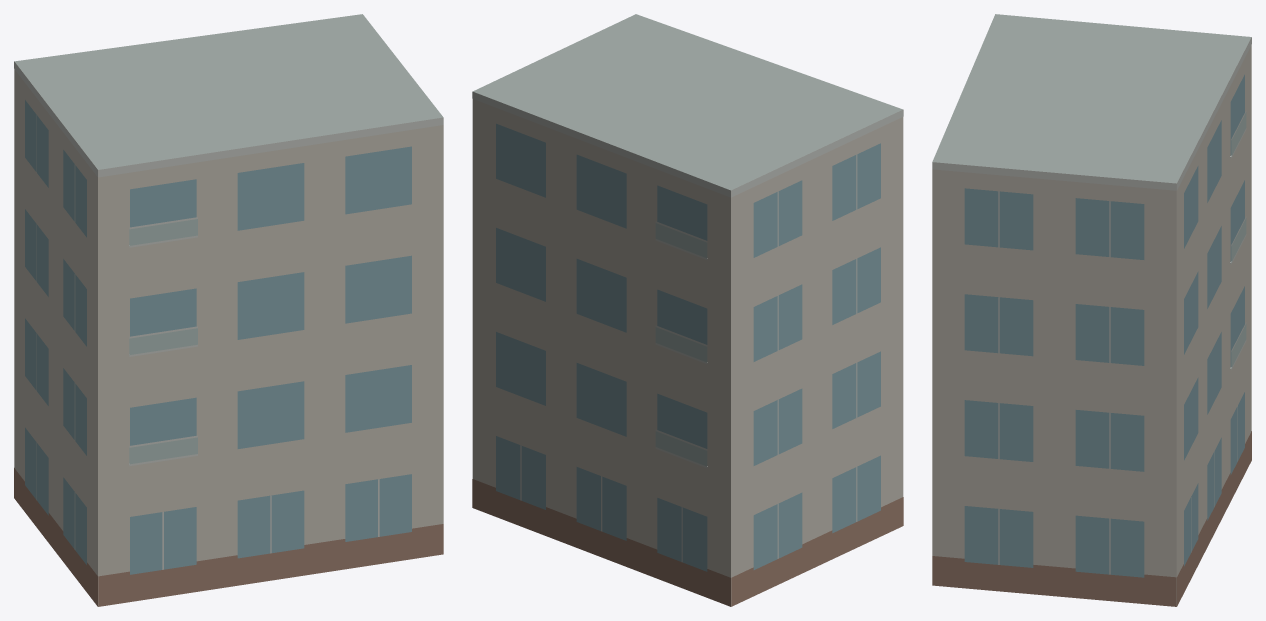
Rendered from survey-upis-32665019.glb.
3 renders of one model, left to right at view 1: azimuth 30°, elevation 25°; view 2: azimuth 150°, elevation 25°; view 3: azimuth 270°, elevation 25°, orthographic. The views are drawn at different scales.
Parts seen in each view (by area): view 1: survey-upis-32665019.tmp; view 2: survey-upis-32665019.tmp; view 3: survey-upis-32665019.tmp.
Boxes of the visible parts, bbox=[...] form: survey-upis-32665019.tmp: bbox=[14, 14, 443, 606]; survey-upis-32665019.tmp: bbox=[472, 14, 903, 606]; survey-upis-32665019.tmp: bbox=[932, 14, 1251, 606].
Bounding box in the file's own units: 12.2 × 14.2 × 9.72.
